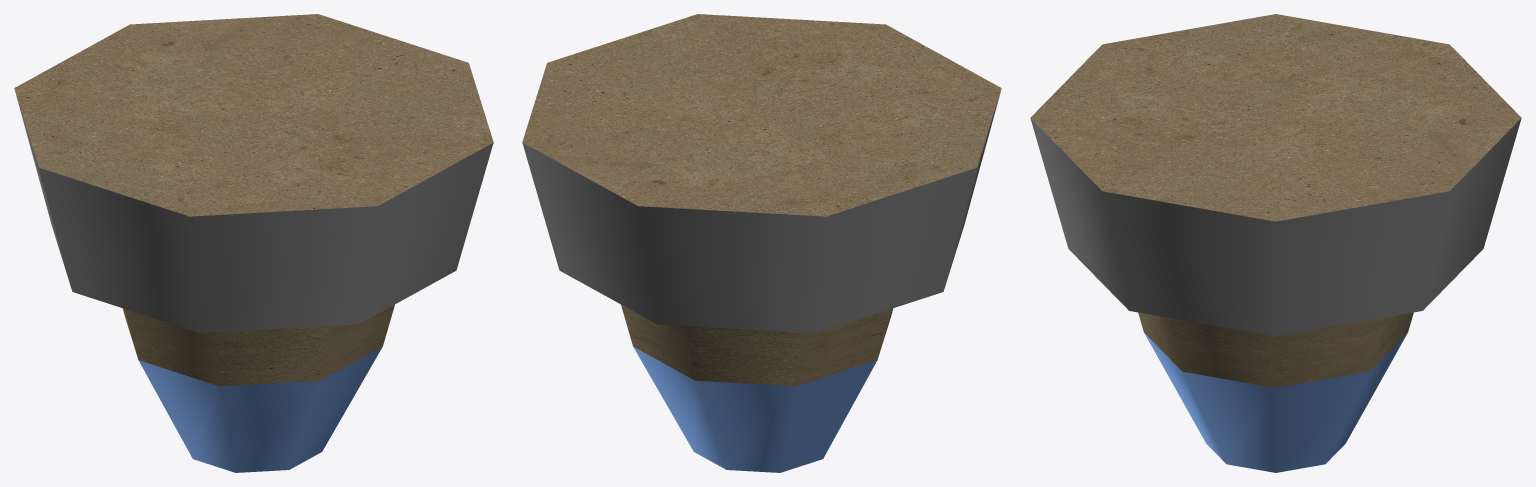
The model's file is Platform_Round.fbx.
3 renders of one model, left to right at view 1: azimuth 30°, elevation 25°; view 2: azimuth 150°, elevation 25°; view 3: azimuth 270°, elevation 25°, orthographic.
Parts seen in each view (by area): view 1: Cylinder015; view 2: Cylinder015; view 3: Cylinder015.
Boxes of the visible parts, x1,y1,x2,y2 form: Cylinder015: (14,14,493,472); Cylinder015: (522,14,1001,472); Cylinder015: (1030,14,1521,472).
Bounding box in the file's own units: 11.23 × 8.21 × 11.23.
